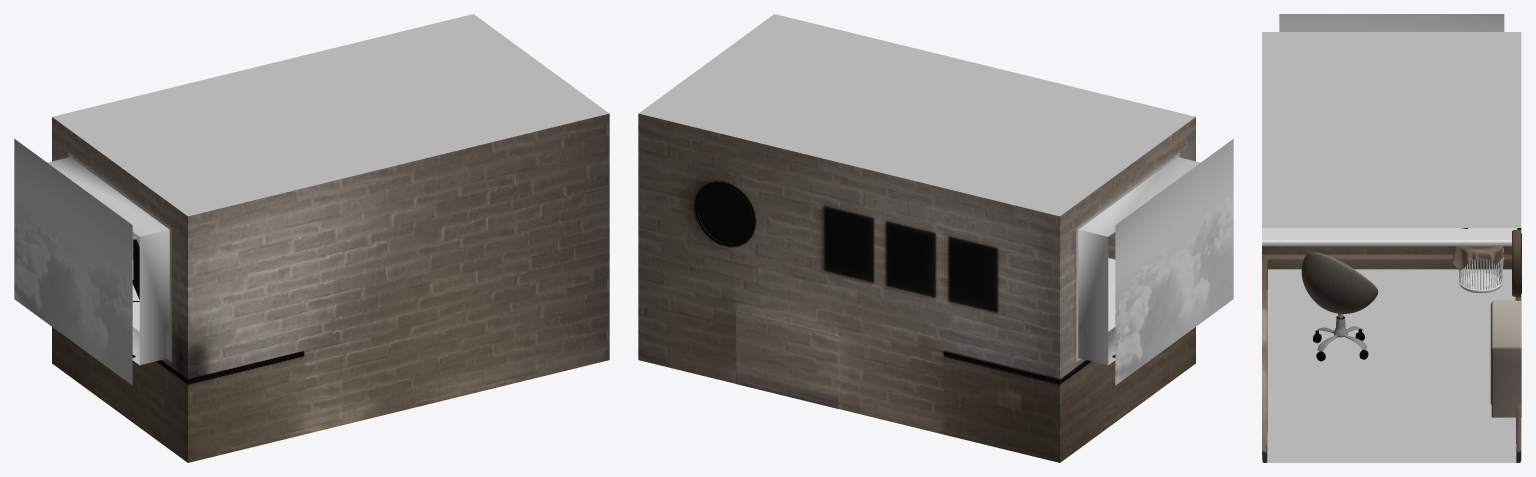
3 renders of one model, left to right at view 1: azimuth 30°, elevation 25°; view 2: azimuth 150°, elevation 25°; view 3: azimuth 270°, elevation 25°, orthographic. The views are drawn at different scales.
Visible parts, largest first — view 1: Small Office, Backdrop; view 2: Small Office, Backdrop; view 3: Small Office, Backdrop.
Part boxes in pixels (x1=…): Small Office: x1=47, y1=14, x2=609, y2=462; Backdrop: x1=14, y1=139, x2=132, y2=385; Small Office: x1=638, y1=14, x2=1200, y2=462; Backdrop: x1=1115, y1=139, x2=1233, y2=385; Small Office: x1=1262, y1=32, x2=1521, y2=462; Backdrop: x1=1279, y1=14, x2=1504, y2=31.
Size of the model in its own units: 1510 by 760 by 761.
